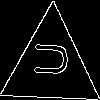U: (26, 40, 68, 78)
